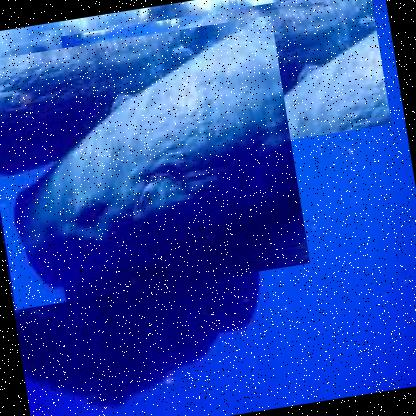sperm_whale: (0, 14, 311, 311), (59, 0, 392, 174)
